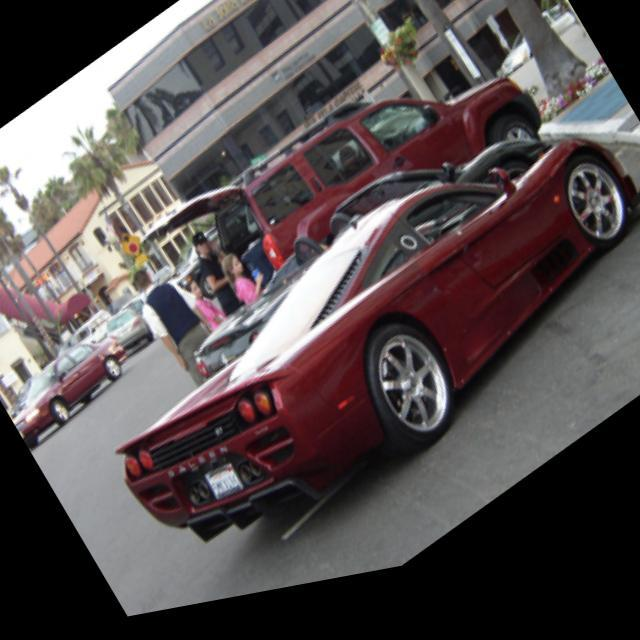license_plate: (198, 458, 253, 524)
